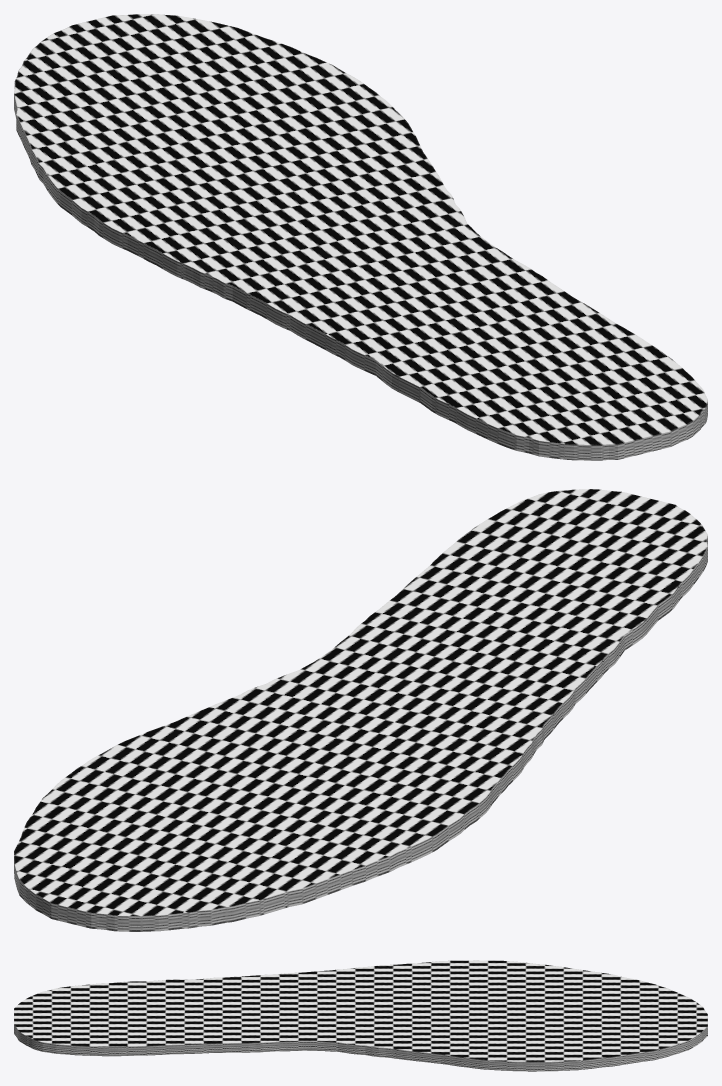
File: Insole.glb
3 views of the same model, one above another, from view 1: azimuth 30°, elevation 25°; view 2: azimuth 150°, elevation 25°; view 3: azimuth 270°, elevation 25° (orthographic). The views are drawn at different scales.
Parts seen in each view (by area): view 1: Plane.003; view 2: Plane.003; view 3: Plane.003.
Boxes of the visible parts, bbox=[...] form: Plane.003: bbox=[14, 14, 707, 460]; Plane.003: bbox=[14, 489, 707, 931]; Plane.003: bbox=[14, 960, 707, 1071].
Bounding box in the file's own units: 1.62 × 0.0715 × 4.68.
1 material, 1 textured.
